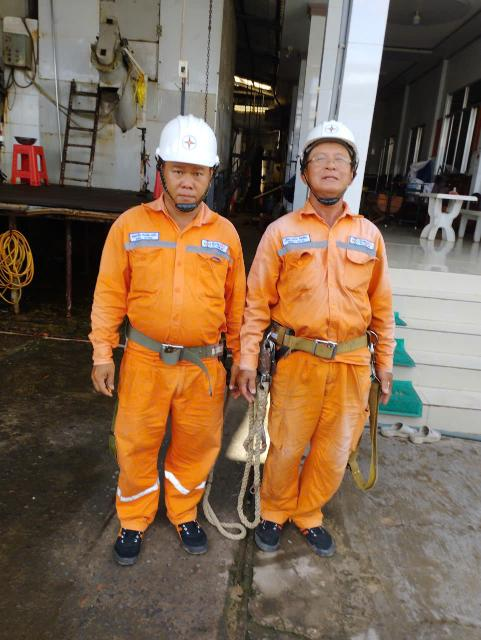harness: (100, 316, 233, 369), (250, 323, 382, 372)
helmet: (147, 110, 219, 178), (296, 109, 352, 158)
shoes: (292, 518, 341, 562), (170, 510, 212, 557), (249, 511, 286, 556), (116, 512, 143, 572)
